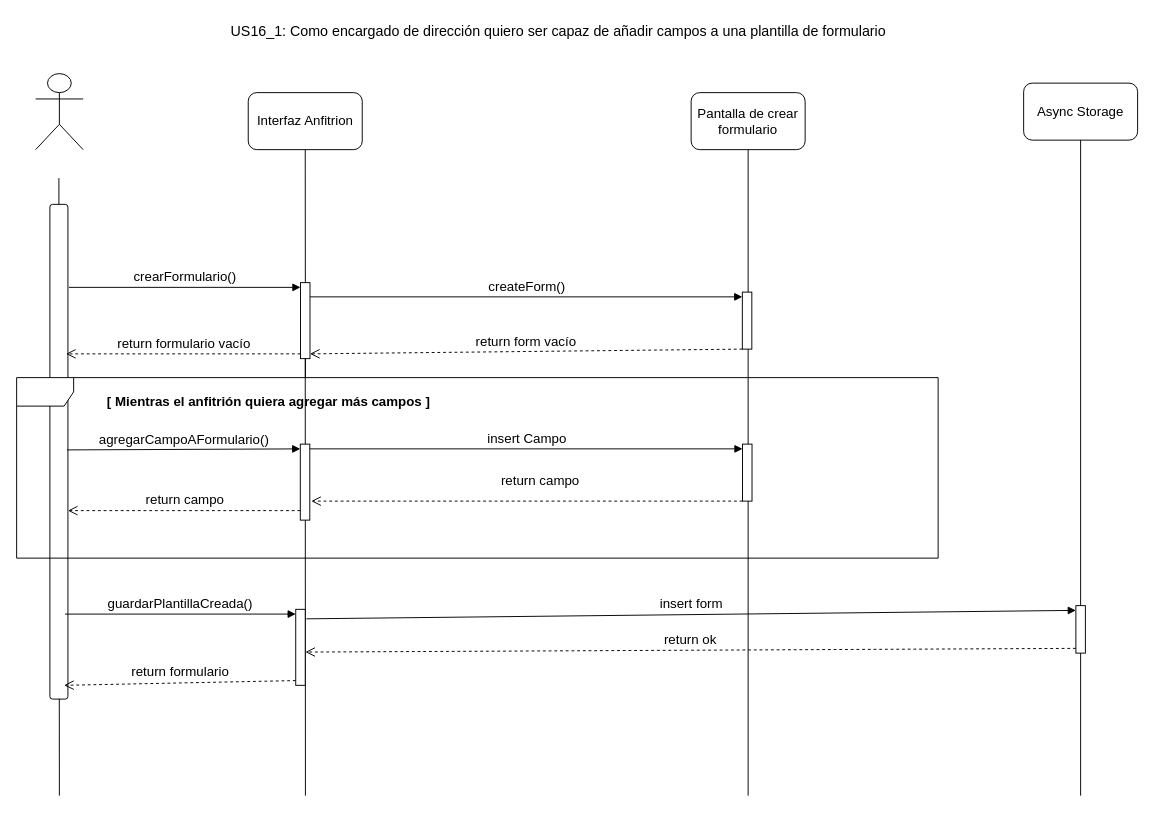
This 1154x813 diagram has some shape labels left out. The shapes that lost their labels are listed below. From the top down, each one's box as (x1, y1, x2, y2) in pixels, then its label:
(35, 73, 83, 150): Anfitrión
(16, 377, 938, 558): Loop
